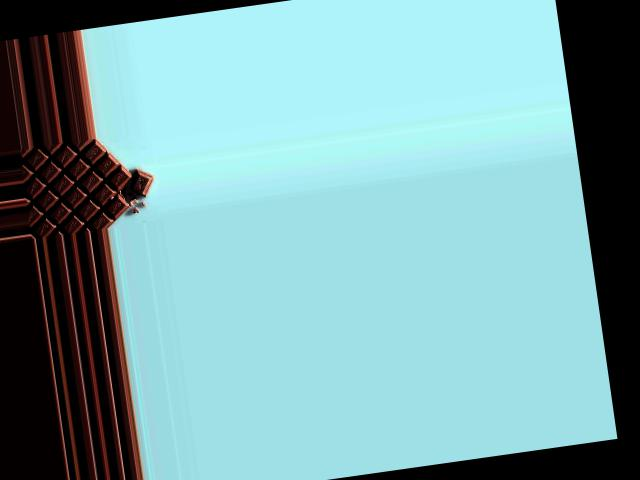chocolate: (18, 136, 146, 237)
